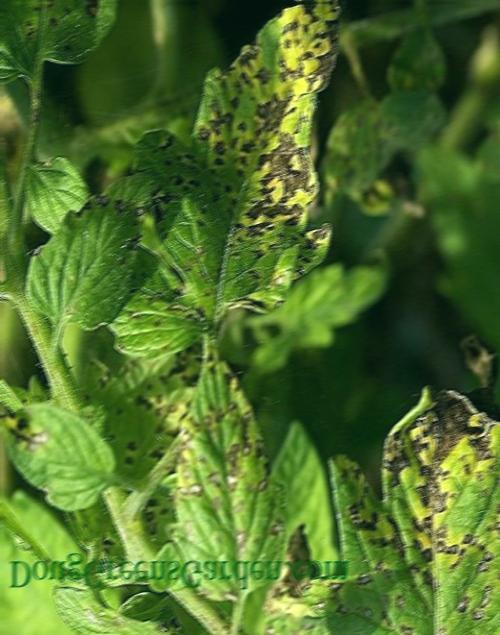Tomato Septoria leaf spot: (166, 0, 348, 327), (326, 380, 493, 627), (171, 328, 285, 594)
